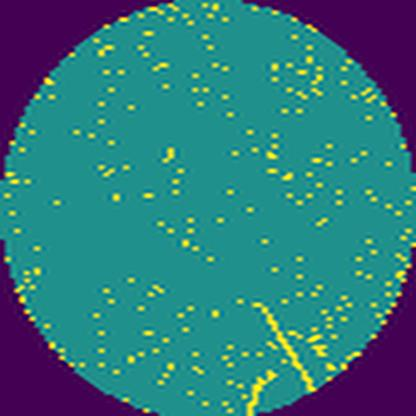Scratch: (250, 296, 322, 398), (241, 367, 281, 416)
